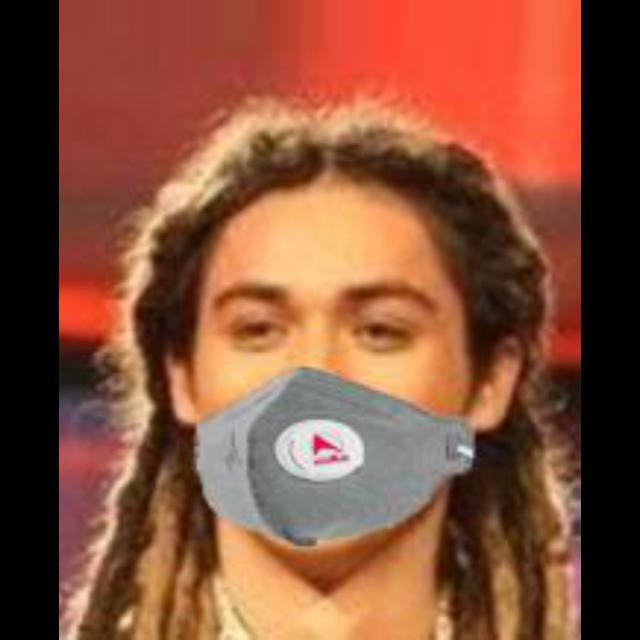suspicion: (167, 147, 536, 566)
